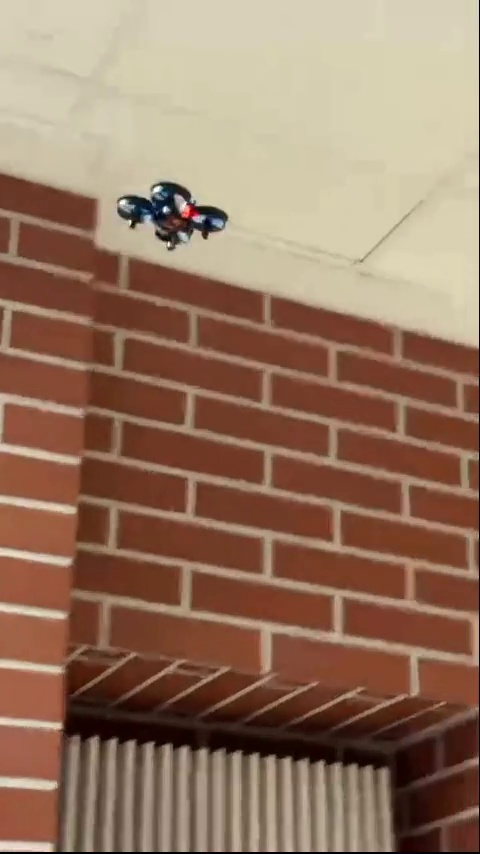drone: (117, 177, 230, 261)
